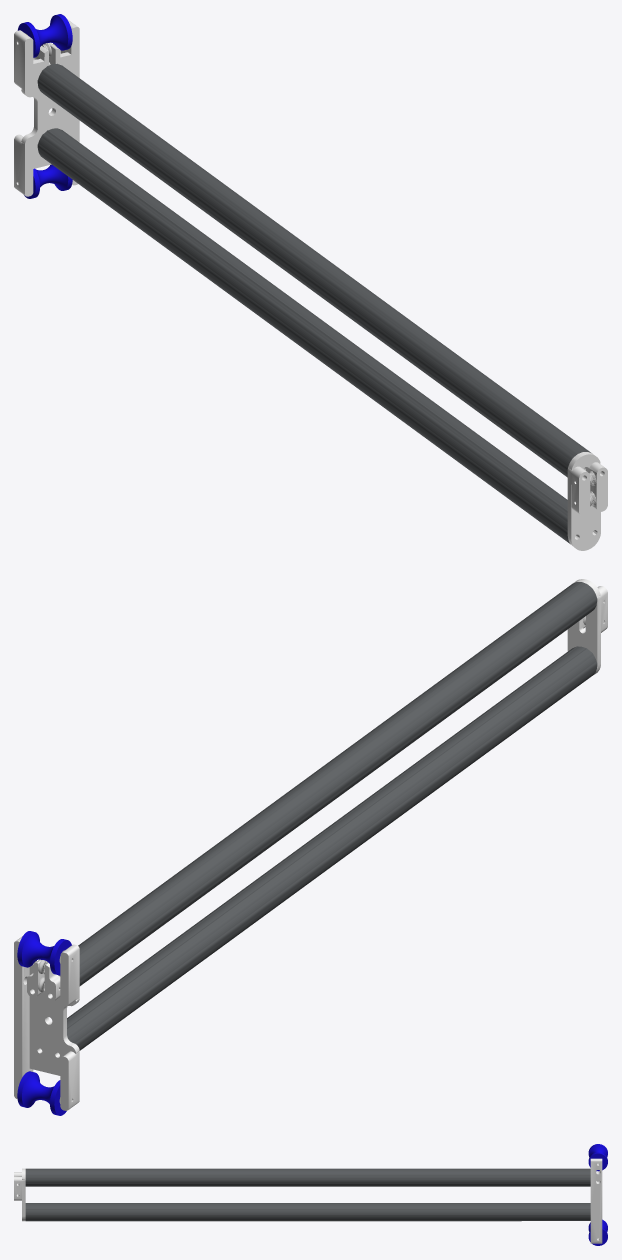
3 renders of one model, top to bottom at view 1: azimuth 30°, elevation 25°; view 2: azimuth 150°, elevation 25°; view 3: azimuth 270°, elevation 25°, orthographic. The views are drawn at different scales.
Parts seen in each view (by area): view 1: model_1; view 2: model_1; view 3: model_1.
Boxes of the visible parts, bbox=[...] form: model_1: bbox=[14, 14, 607, 550]; model_1: bbox=[14, 579, 607, 1115]; model_1: bbox=[14, 1144, 607, 1245].
Size of the model in its own units: 0.055 by 0.1661 by 0.9684.
